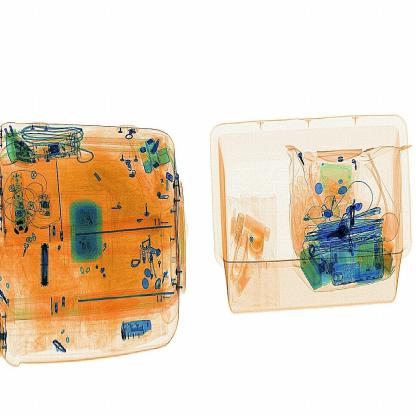scissors: (38, 241, 53, 291)
